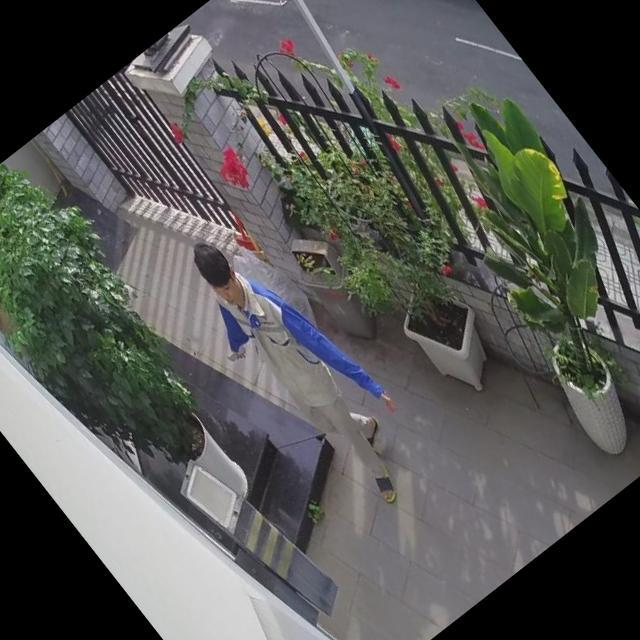person: (167, 210, 443, 525)
